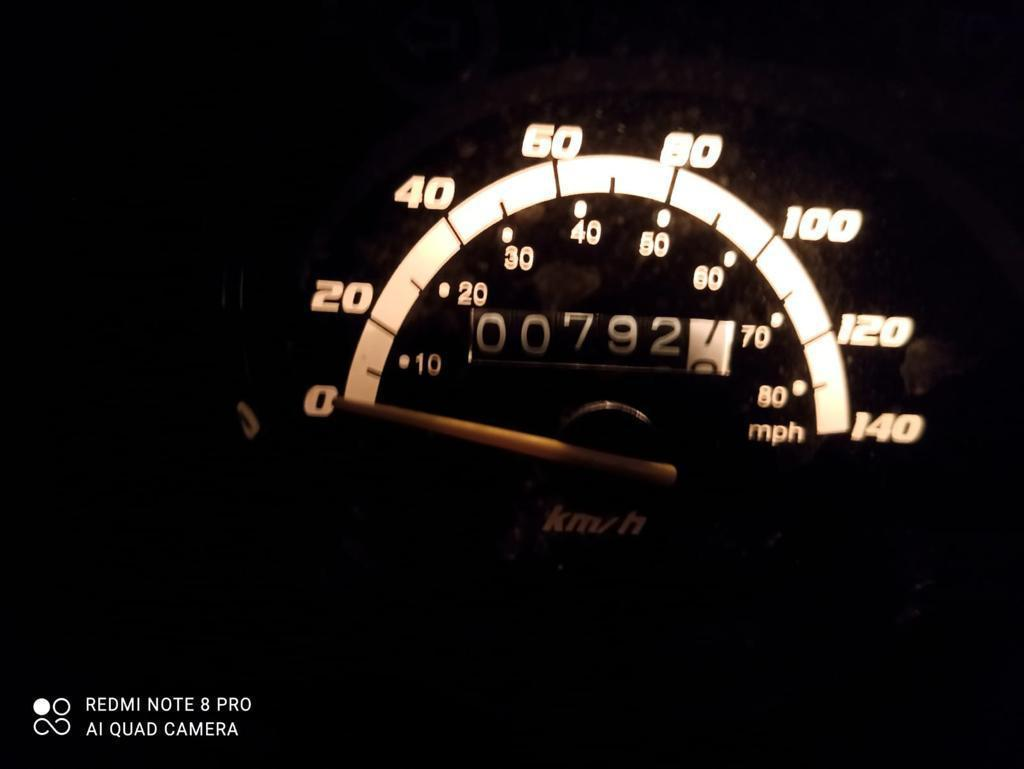0: (516, 310, 551, 354), (473, 311, 506, 355)
2: (646, 313, 684, 359)
7: (560, 308, 596, 353), (700, 310, 729, 350)
9: (606, 312, 639, 353)
odometer: (459, 303, 739, 379)
